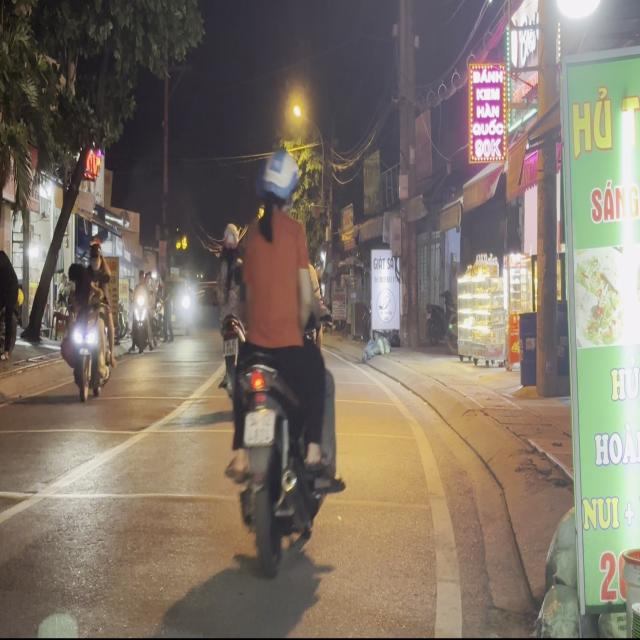helmet: (257, 148, 300, 216)
licenseplate: (219, 144, 344, 576)
nohelmet: (243, 409, 275, 444)
